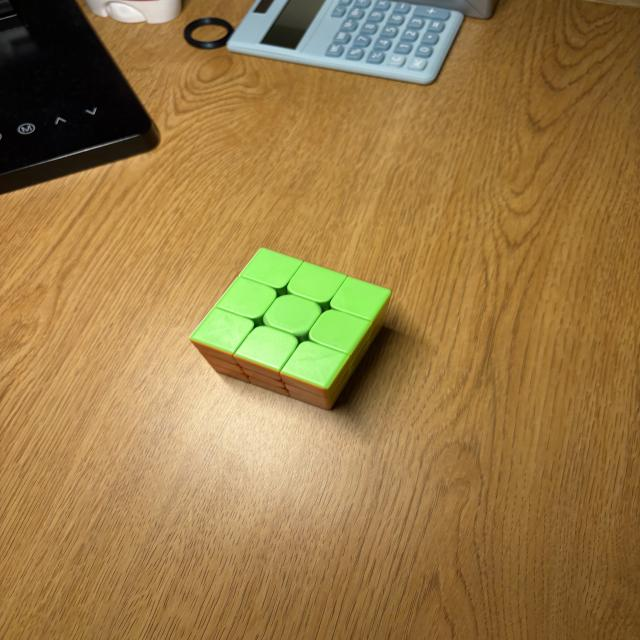Rubiks Cube: (189, 248, 391, 410)
